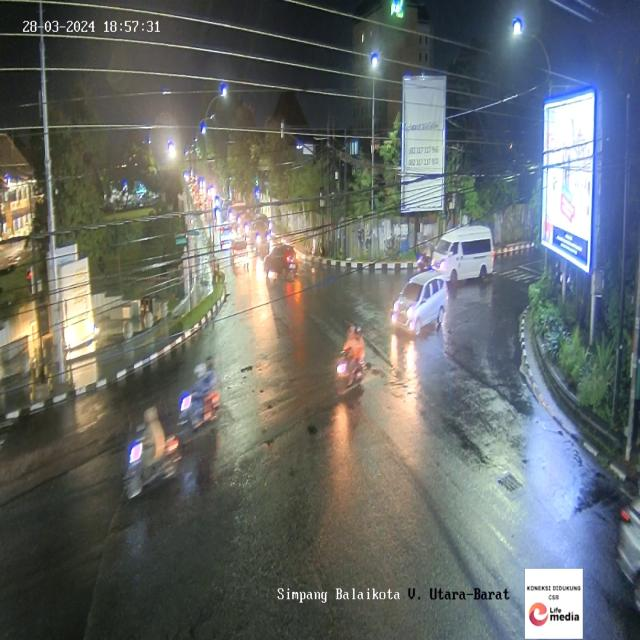bus: (431, 223, 494, 280)
car: (392, 270, 447, 338), (263, 244, 297, 278), (249, 218, 271, 253), (232, 240, 250, 270), (219, 226, 236, 249)
motorcycle: (124, 402, 175, 507), (178, 354, 216, 434), (337, 319, 368, 394)
